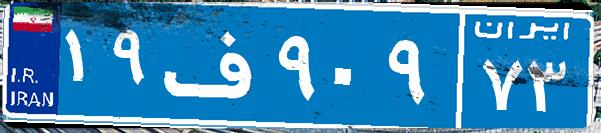0: (330, 28, 385, 110)
1: (57, 26, 110, 107)
3: (525, 38, 570, 115)
7: (475, 38, 525, 113)
9: (385, 28, 445, 110), (273, 28, 330, 110), (110, 28, 158, 105)
ف: (158, 15, 273, 115)
